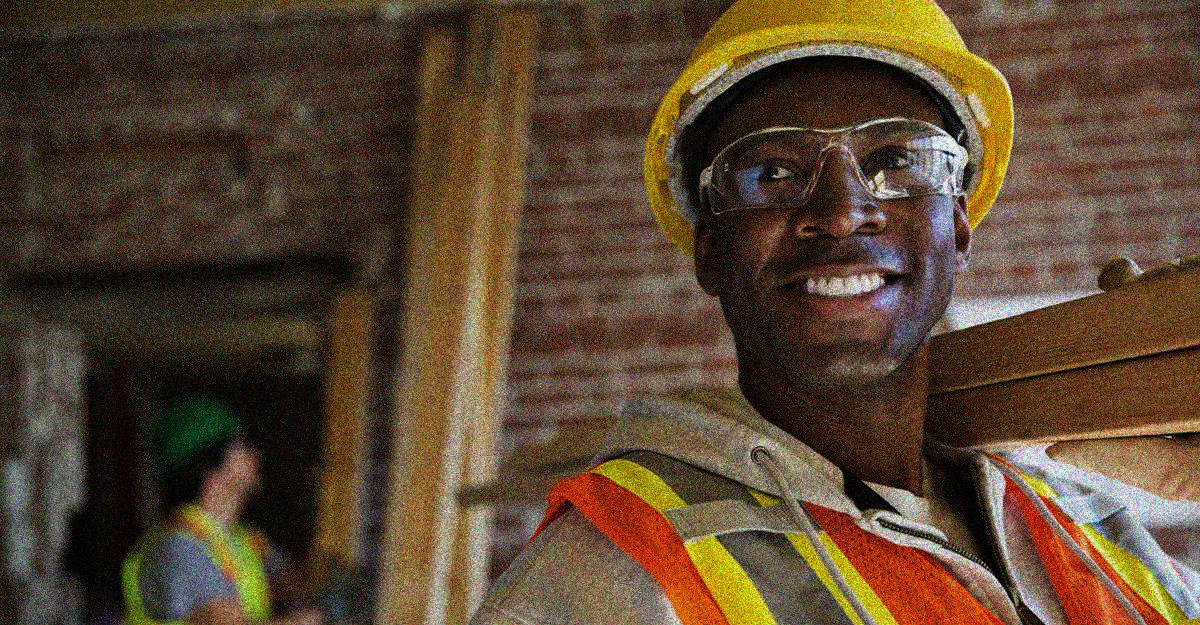helmet: (640, 1, 1019, 386), (149, 391, 272, 507)
